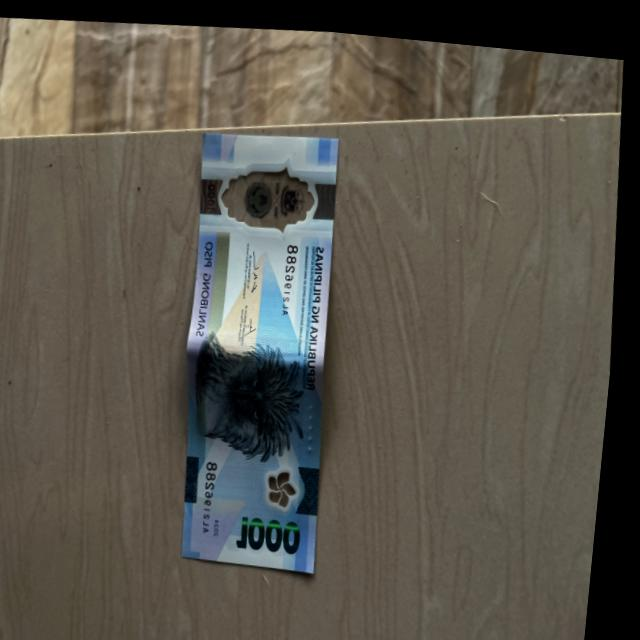clear_window: (213, 146, 330, 234)
eagle: (198, 329, 319, 460)
sampaguita: (271, 459, 311, 508)
